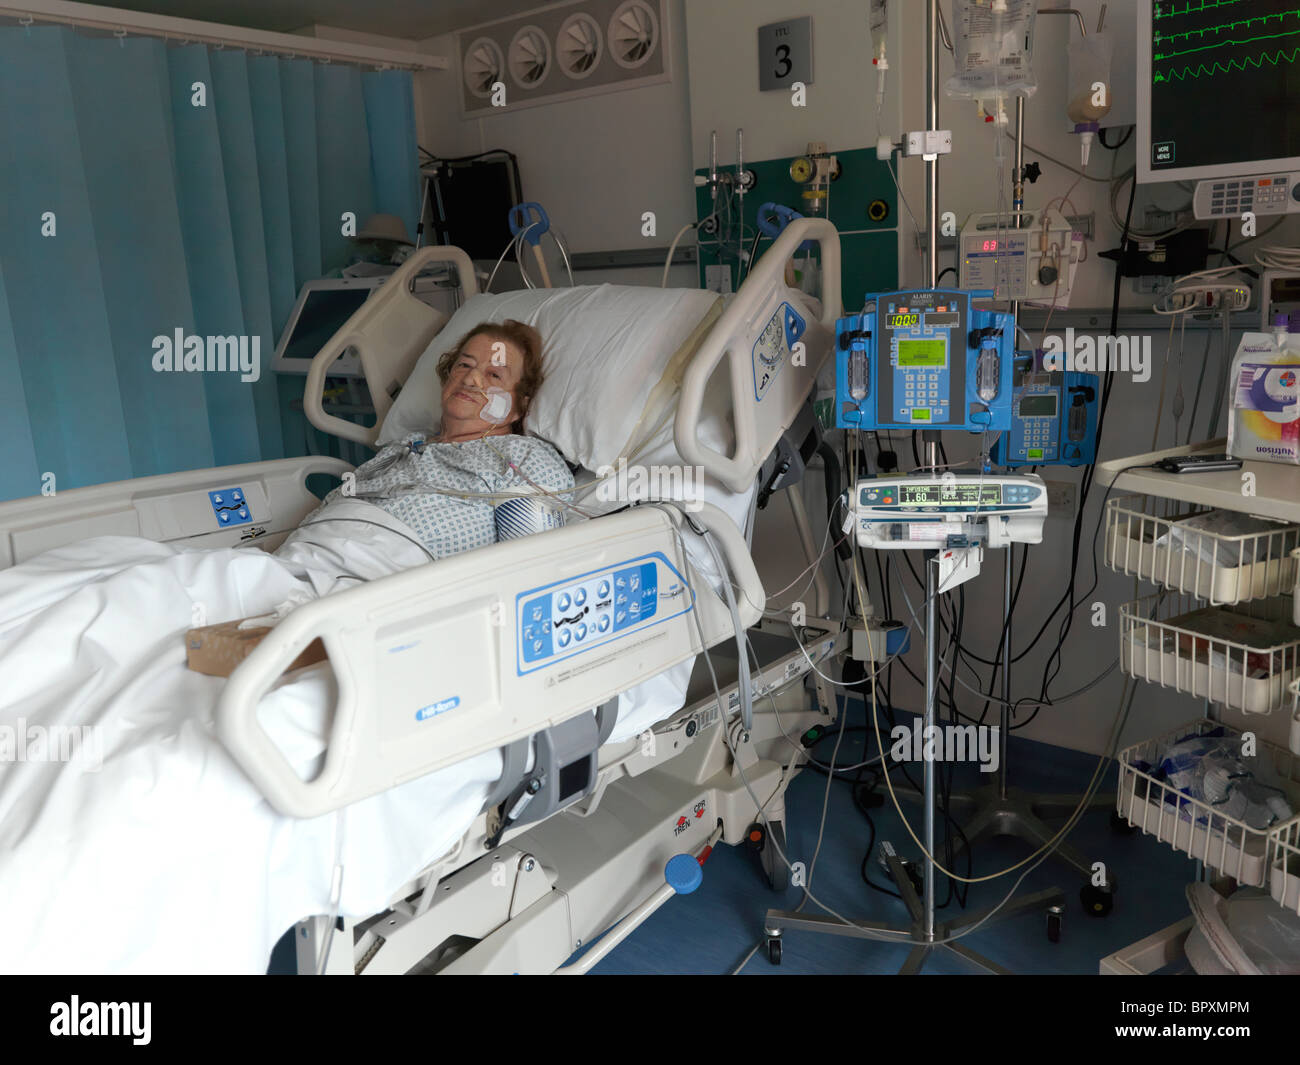monitoring system: (803, 277, 1062, 593)
patient: (415, 315, 557, 533)
